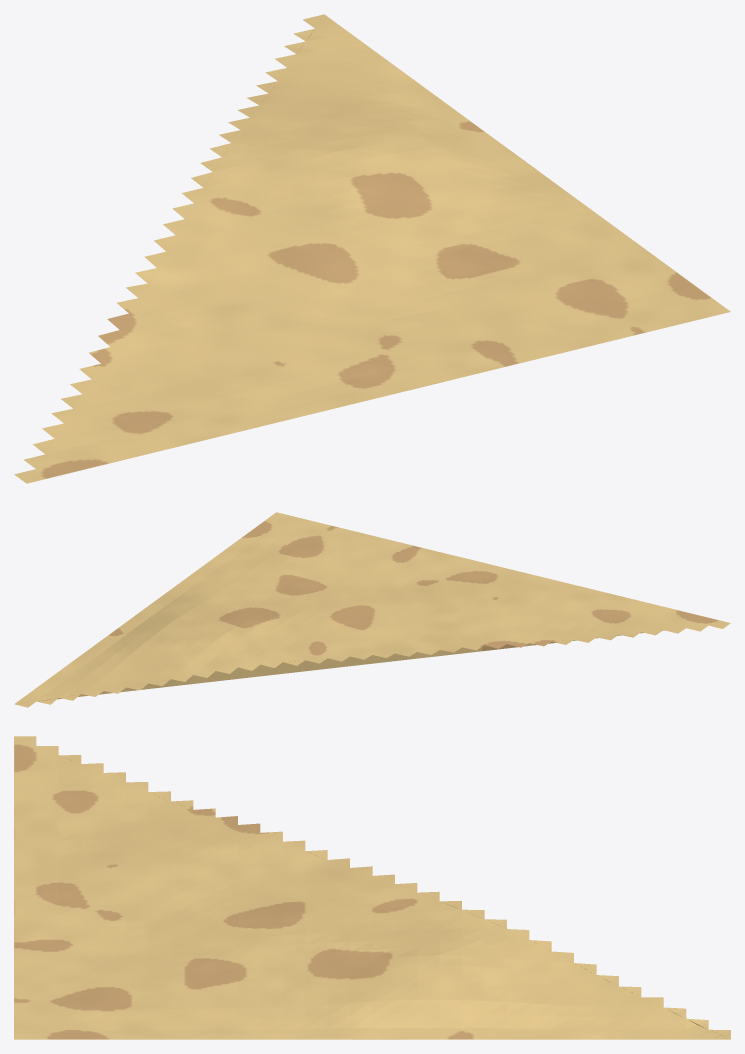
File: Desert_Flat_02_NE.obj
3 renders of one model, top to bottom at view 1: azimuth 30°, elevation 25°; view 2: azimuth 150°, elevation 25°; view 3: azimuth 270°, elevation 25°, orthographic. The views are drawn at different scales.
Size of the model in its own units: 10 by 0.2841 by 10.
Materials: 1 (1 with a texture image).
